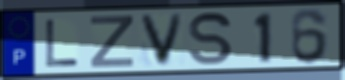1: (251, 10, 274, 64)
6: (289, 7, 331, 66)
L: (44, 18, 82, 69)
S: (187, 10, 235, 67)
V: (136, 12, 187, 68)
Z: (88, 14, 136, 69)
